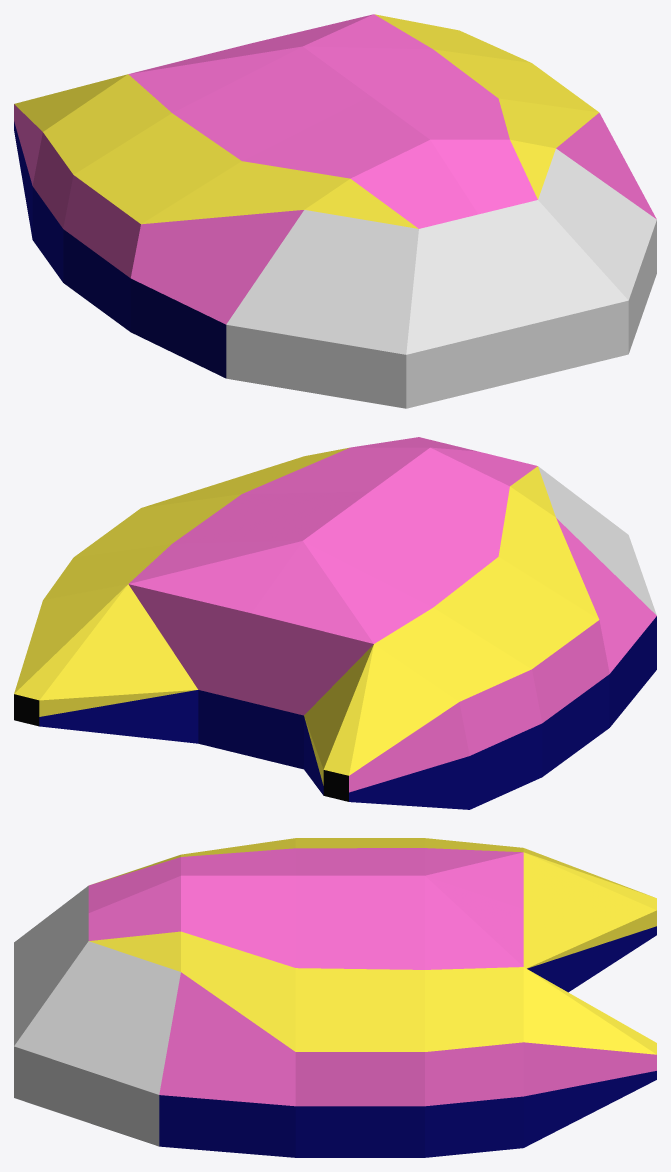
Rendered from Catspaceship.fbx.
3 renders of one model, top to bottom at view 1: azimuth 30°, elevation 25°; view 2: azimuth 150°, elevation 25°; view 3: azimuth 270°, elevation 25°, orthographic. The views are drawn at different scales.
Visible parts, largest first — view 1: Cube; view 2: Cube; view 3: Cube.
Part boxes in pixels (bbox=[...]): Cube: bbox=[14, 14, 656, 408]; Cube: bbox=[14, 437, 656, 809]; Cube: bbox=[14, 838, 656, 1157].
Bounding box in the file's own units: 276 × 97.98 × 335.
2 materials, 1 textured.
